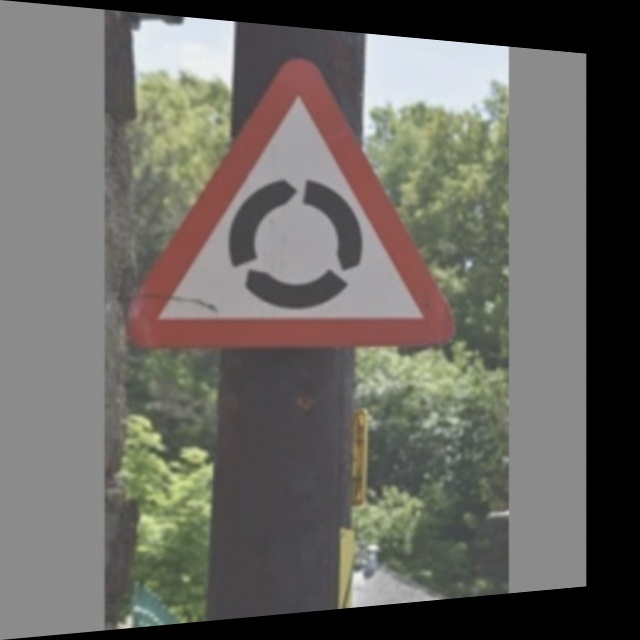Round_About: (138, 39, 449, 343)
